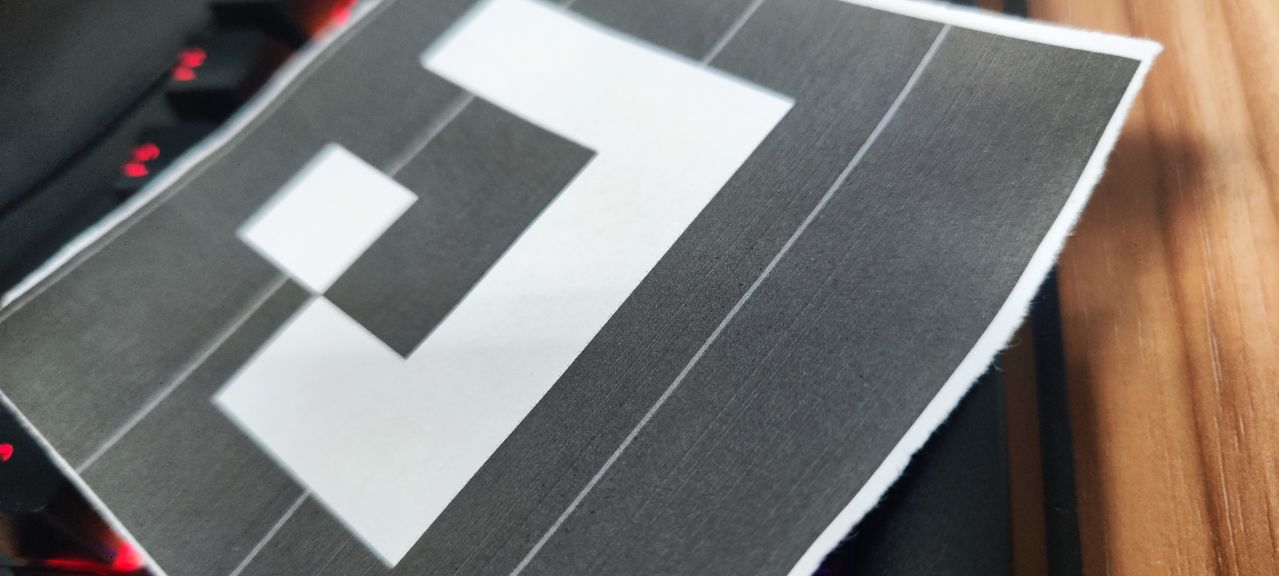mark1: (209, 8, 792, 569)
